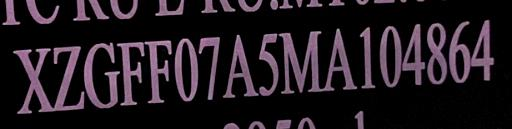letter: (278, 27, 322, 96), (11, 47, 53, 114), (81, 41, 121, 108), (221, 32, 259, 99), (323, 24, 359, 91), (50, 45, 86, 112), (115, 40, 145, 109), (172, 32, 198, 107), (143, 37, 171, 106), (470, 16, 496, 87), (401, 20, 427, 89), (377, 22, 403, 91), (197, 33, 221, 104), (448, 19, 472, 88), (256, 30, 280, 99), (425, 18, 447, 87), (356, 24, 378, 91)
